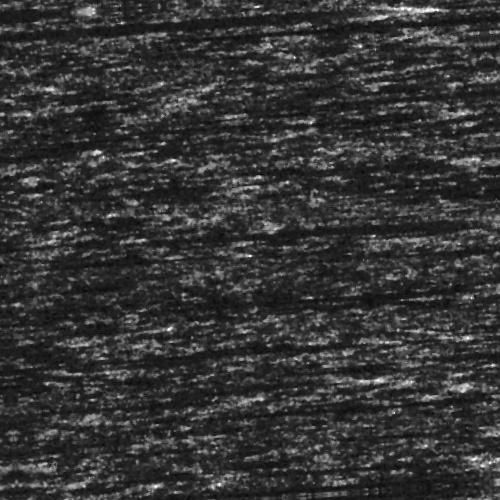object: (375, 10, 500, 27), (288, 380, 403, 391), (418, 167, 500, 180), (195, 390, 268, 403), (451, 483, 500, 498), (455, 407, 500, 418), (0, 2, 51, 11), (433, 121, 496, 128), (411, 469, 474, 474), (75, 137, 106, 142), (488, 259, 500, 270), (437, 72, 448, 79)
shadow: (22, 10, 438, 27), (265, 98, 500, 117), (239, 483, 500, 498), (240, 407, 500, 418), (217, 229, 500, 238), (44, 390, 231, 403), (130, 121, 464, 128), (292, 167, 460, 180), (307, 30, 500, 41), (164, 380, 345, 391), (379, 259, 500, 270), (277, 72, 443, 79), (258, 469, 443, 474), (61, 248, 237, 253), (0, 137, 90, 142)
